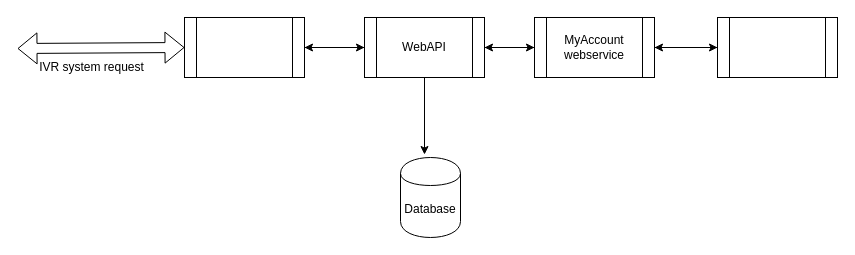
Some shapes in this 855 by 255 pixel diagram are drawn without their labels. Here are the shapes that lost their labels. From the top down, the centre of each, then its label:
(x=244, y=47): WCF service
(x=777, y=47): BEAM
